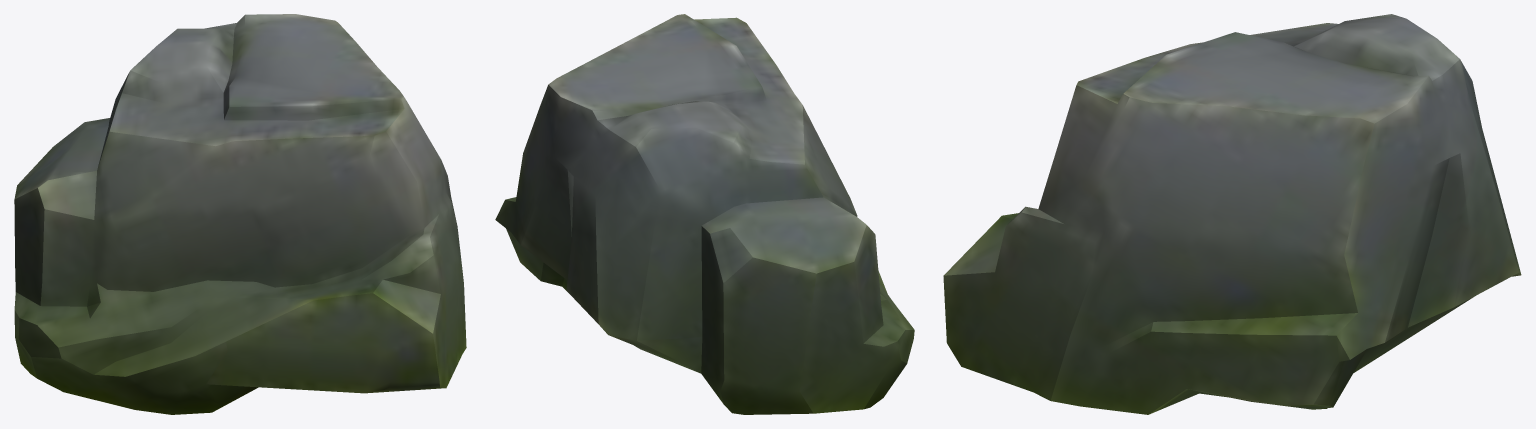
Rendered from nature-rock-medium-3.glb.
3 renders of one model, left to right at view 1: azimuth 30°, elevation 25°; view 2: azimuth 150°, elevation 25°; view 3: azimuth 270°, elevation 25°, orthographic. The views are drawn at different scales.
Visible parts, largest first — view 1: Rock_Medium_3; view 2: Rock_Medium_3; view 3: Rock_Medium_3.
Boxes of the visible parts, x1=… form: Rock_Medium_3: x1=14, y1=14, x2=466, y2=414; Rock_Medium_3: x1=495, y1=14, x2=914, y2=414; Rock_Medium_3: x1=943, y1=14, x2=1521, y2=414.
Bounding box in the file's own units: 3.42 × 2.32 × 3.48.
Materials: 1 (1 with a texture image).
